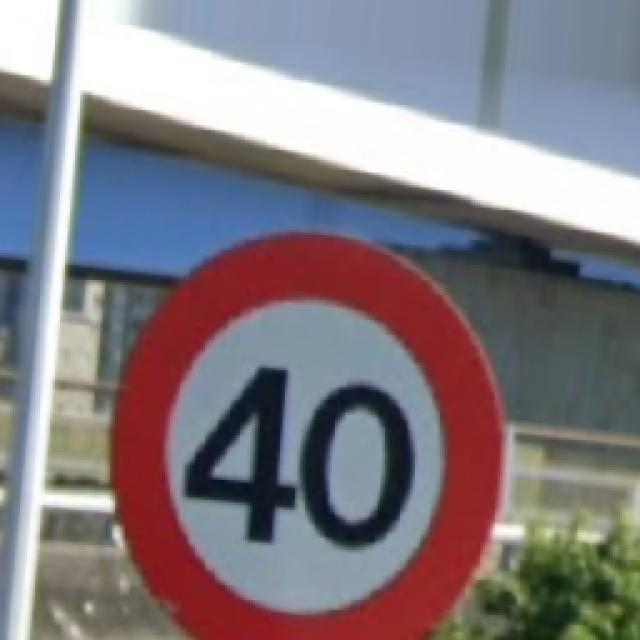Speed Limit -40-: (112, 232, 502, 638)
